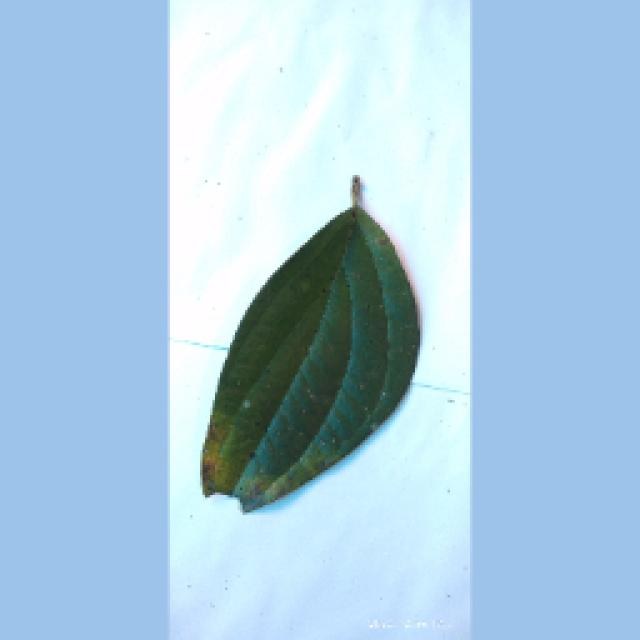slow-decline: (195, 180, 423, 518)
